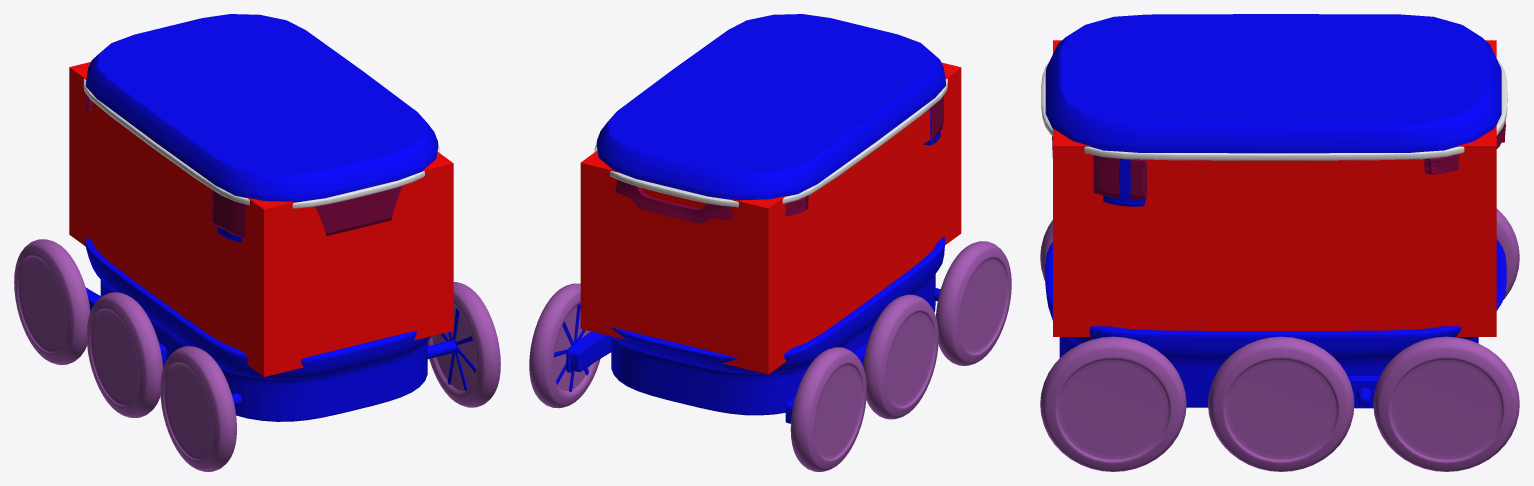
Rendered from starship non_cute.fbx.
The picture shows the model from 3 angles, left to right: view 1: azimuth 30°, elevation 25°; view 2: azimuth 150°, elevation 25°; view 3: azimuth 270°, elevation 25°; orthographic projection. The views are drawn at different scales.
Parts seen in each view (by area): view 1: DeliveryRobotBody_01, New Body, Wheel_01, Wheel_02, Wheel_03, Glass_01, Cap_02; view 2: DeliveryRobotBody_01, New Body, Wheel_03, Wheel_01, Wheel_02, Cap_02, Glass_05; view 3: New Body, DeliveryRobotBody_01, Wheel_03, Wheel_01, Wheel_02, Cap_02, Glass_01, Glass_05.
Boxes of the visible parts, x1,y1,x2,y2 form: DeliveryRobotBody_01: (84, 14, 476, 421); New Body: (69, 62, 453, 376); Wheel_01: (160, 282, 500, 471); Wheel_02: (86, 292, 162, 417); Wheel_03: (14, 239, 90, 364); Glass_01: (211, 186, 401, 237); Cap_02: (83, 79, 439, 208); DeliveryRobotBody_01: (554, 14, 946, 423); New Body: (580, 62, 961, 374); Wheel_03: (529, 283, 866, 471); Wheel_01: (936, 241, 1011, 365); Wheel_02: (863, 294, 938, 419); Cap_02: (594, 78, 947, 207); Glass_05: (615, 179, 808, 223); New Body: (1053, 40, 1496, 336); DeliveryRobotBody_01: (1045, 14, 1506, 408); Wheel_03: (1373, 208, 1519, 471); Wheel_01: (1040, 220, 1186, 471); Wheel_02: (1208, 336, 1354, 471); Cap_02: (1041, 58, 1507, 160); Glass_01: (1052, 136, 1146, 199); Glass_05: (1424, 121, 1505, 174).
Bounding box in the file's own units: 67.71 × 65.43 × 86.46.
